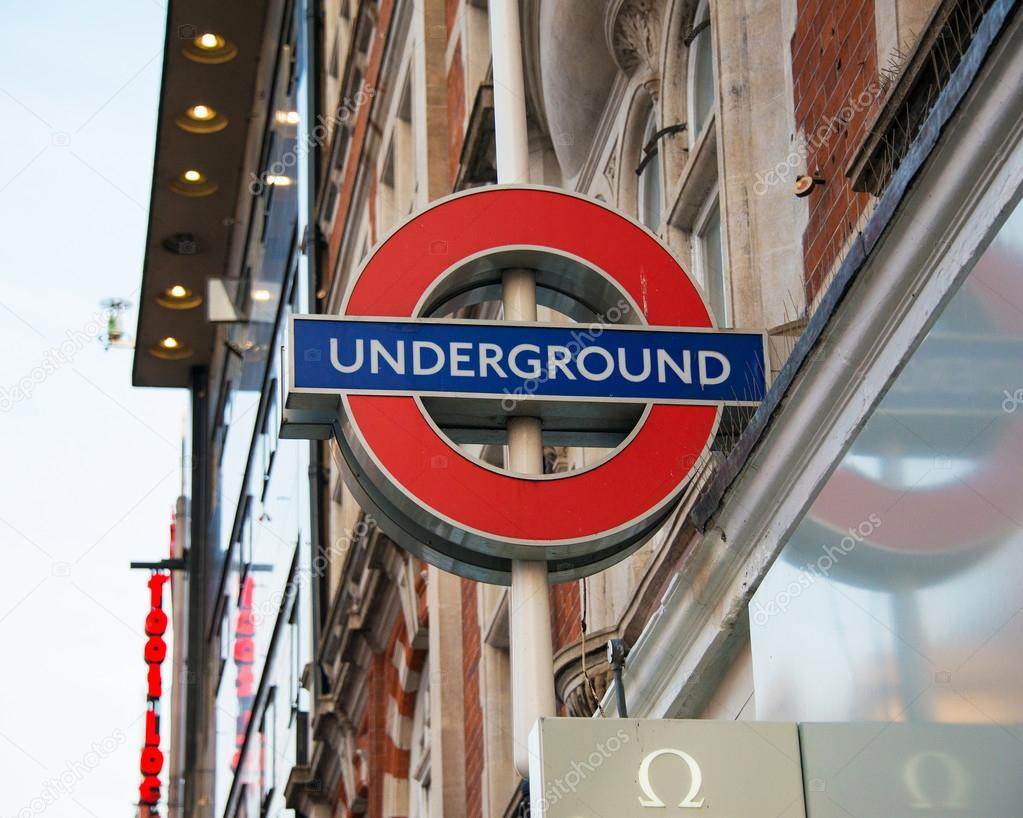London Underground: (281, 186, 754, 566)
